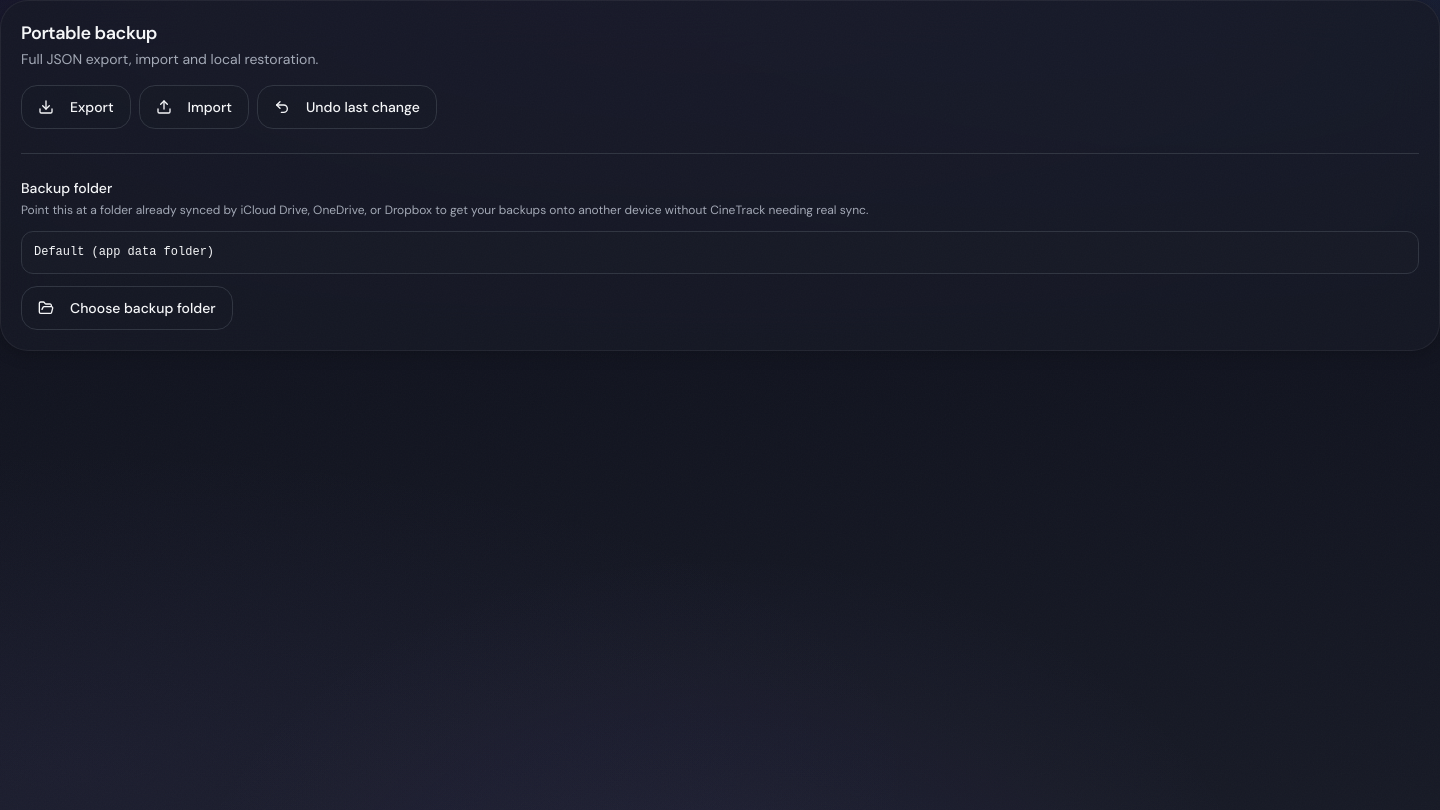
Test: BackupTools › backup folder › picking a folder updates the backupDirectory preference
Click the button "Choose backup folder": (127, 308) [21, 286, 233, 330]
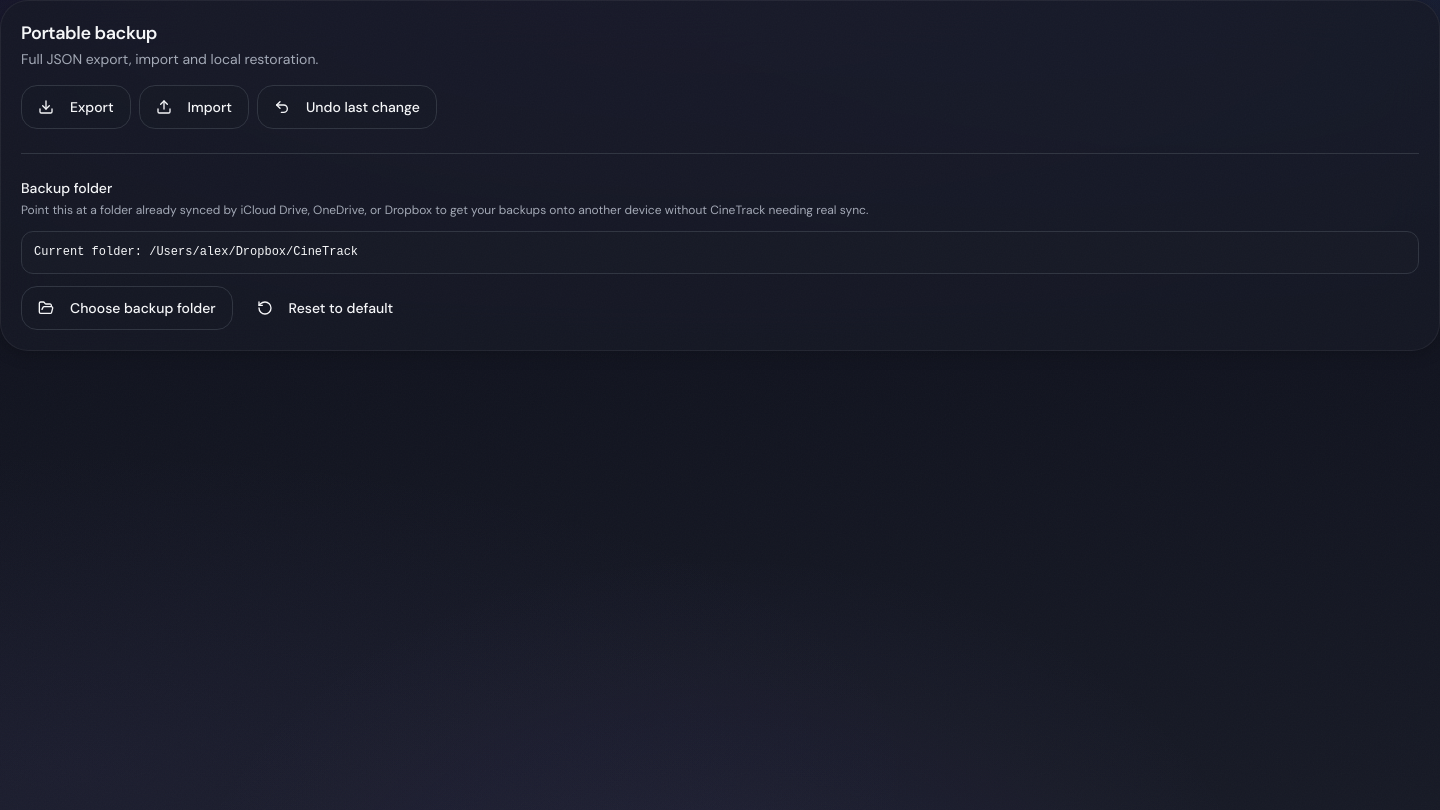
Expected: the text "Current folder: /Users/alex/Dropbox/CineTrack" is shown, [21, 231, 1419, 274]
